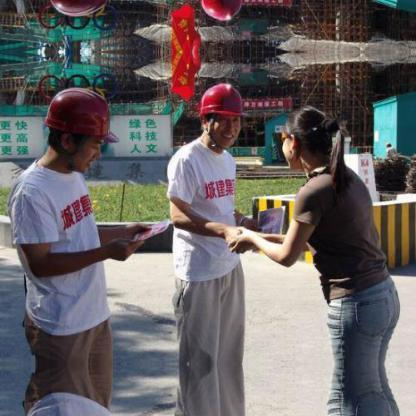helmet: (36, 74, 121, 148), (197, 76, 252, 126)
